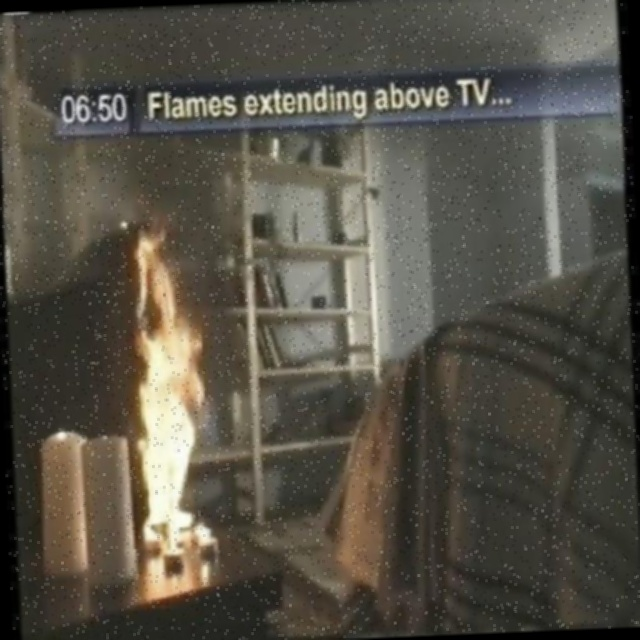fire: (109, 212, 229, 578)
